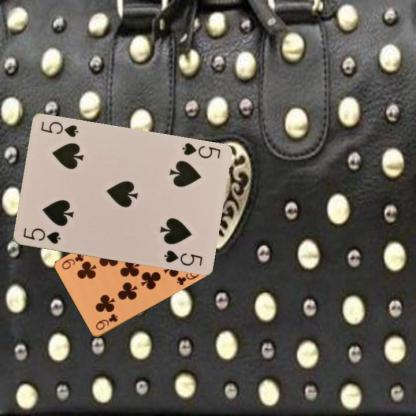5s: (179, 140, 221, 160), (20, 226, 61, 246)
9c: (93, 310, 119, 332)
